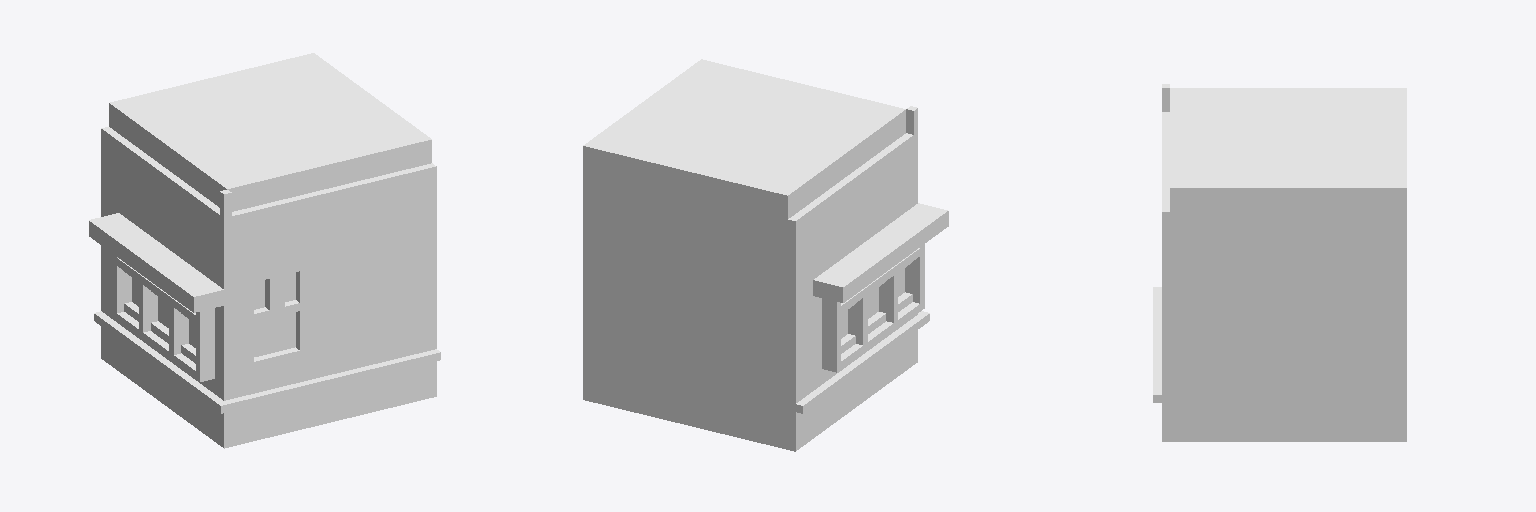
The model's file is tile_2_right_nr_corner.obj.
The picture shows the model from 3 angles: view 1: azimuth 30°, elevation 25°; view 2: azimuth 150°, elevation 25°; view 3: azimuth 270°, elevation 25°; orthographic projection.
Parts seen in each view (by area): view 1: object 1; view 2: object 1; view 3: object 1.
Part boxes in pixels (bbox=[...]): object 1: bbox=[89, 53, 440, 448]; object 1: bbox=[583, 59, 948, 451]; object 1: bbox=[1153, 84, 1406, 441].
Bounding box in the file's own units: 3.2 × 3.2 × 2.9.